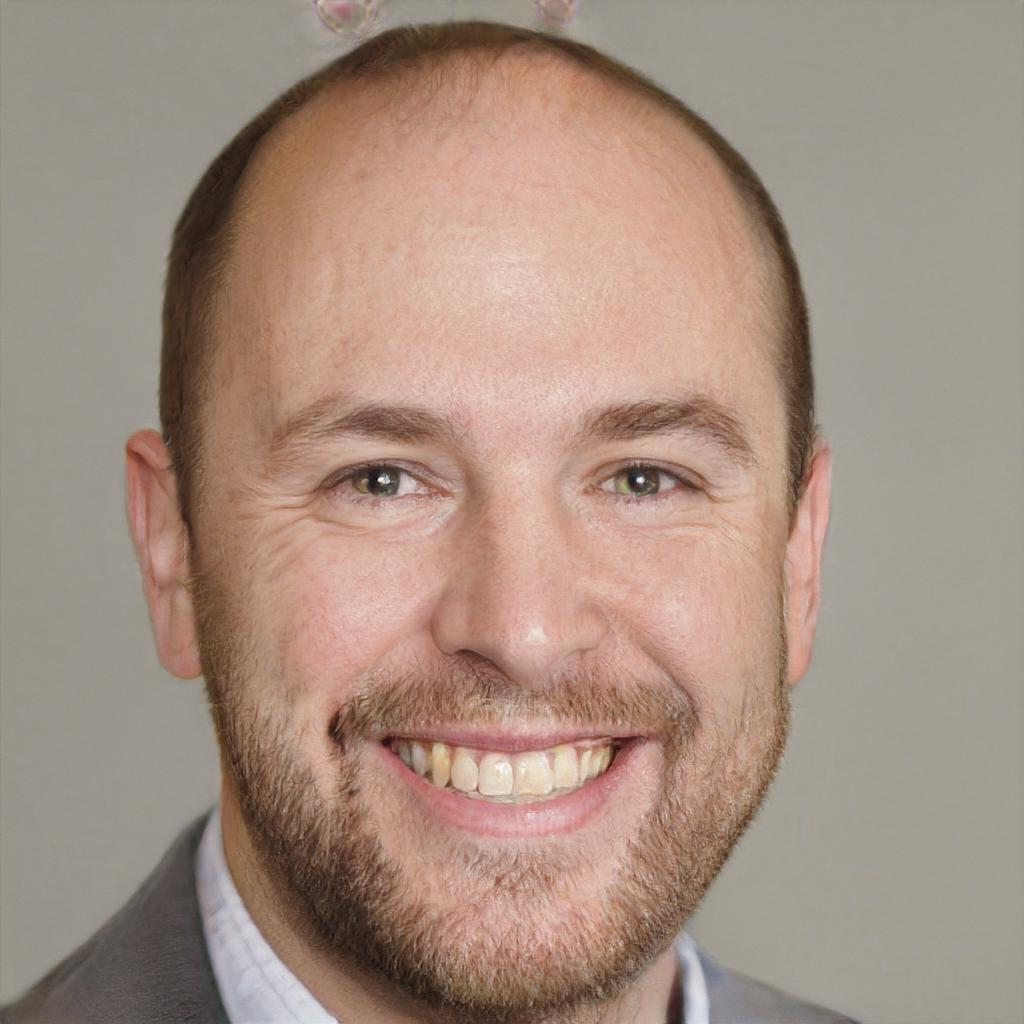face: (198, 186, 787, 1006)
